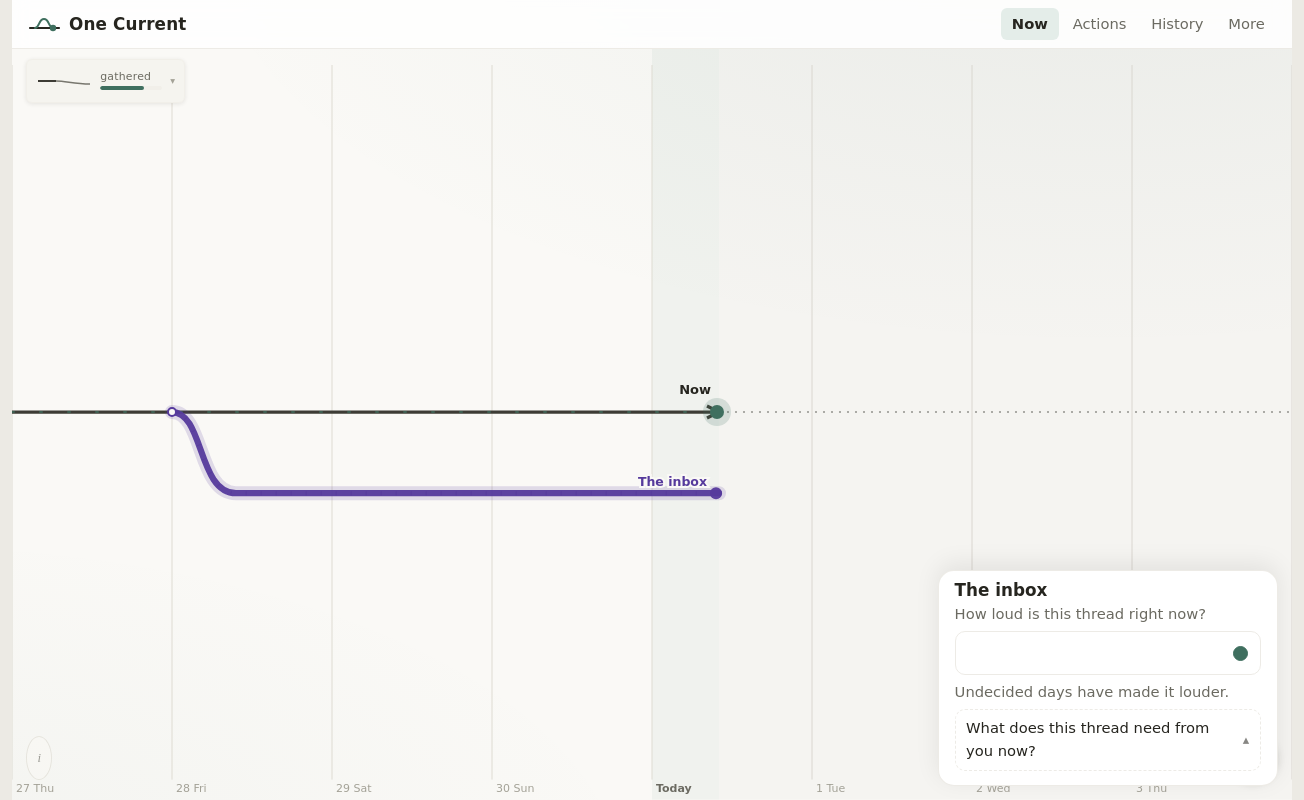
Test: living time and loudness › pulling the dial down genuinely quiets a line that had drifted louder
This screenshot has width=1304, height=800.
expect the text "Undecided days have made it louder." is shown: met, box [955, 681, 1261, 704]
Note: Pulling it to the bottom re-anchors the drift: the line falls still.
Step 1. Set the slider labelled "How loud is this thread right now?" to "1" → x=963, y=653, box [955, 631, 1261, 675]
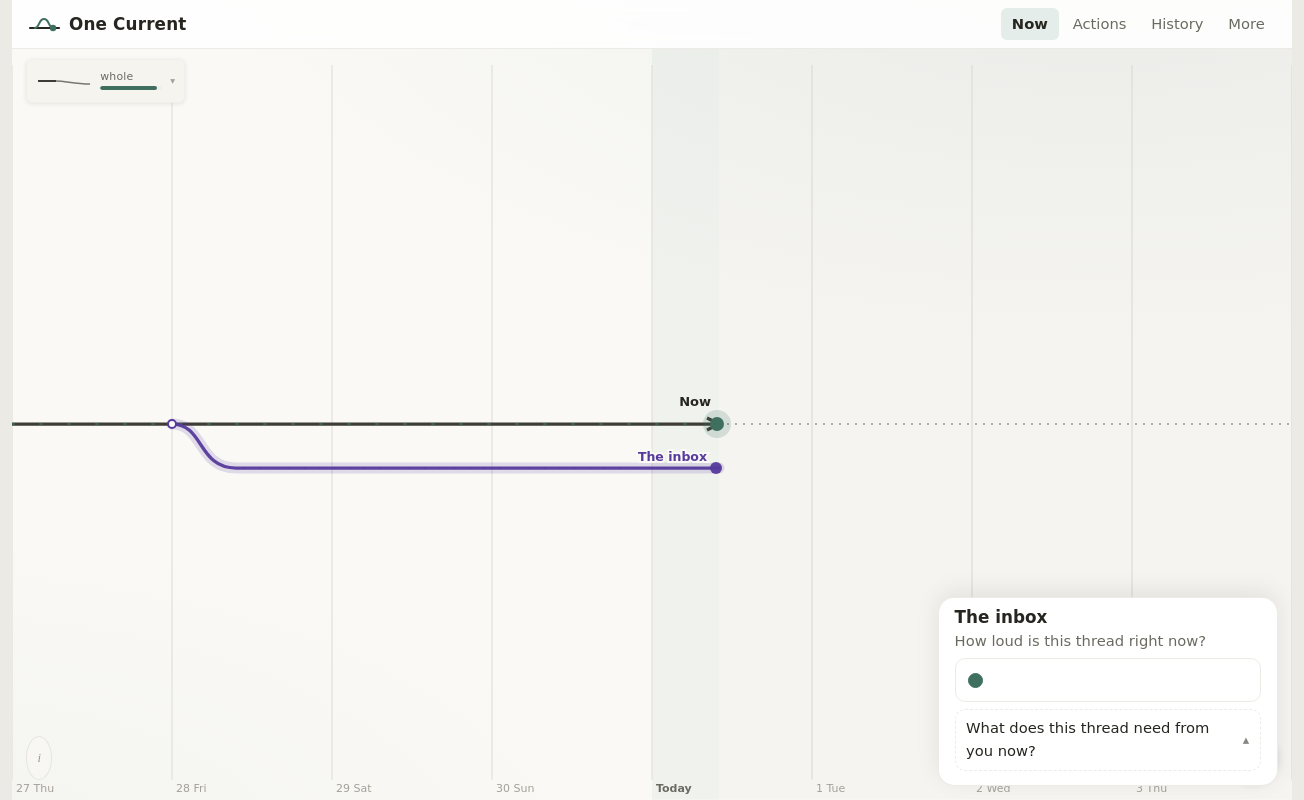
expect the text "Undecided days have made it louder." is gone: met
